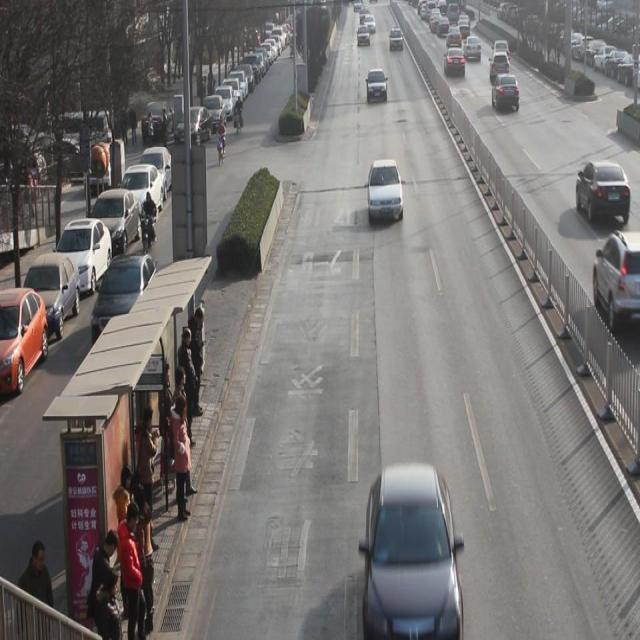car: (365, 464, 461, 640), (92, 255, 159, 352), (593, 232, 634, 329), (576, 162, 631, 226), (368, 160, 404, 225), (492, 73, 520, 114), (367, 68, 387, 106), (444, 47, 466, 81), (464, 35, 482, 65), (489, 54, 510, 79), (389, 26, 404, 55), (446, 24, 461, 46), (357, 24, 370, 46), (363, 13, 375, 34), (492, 40, 508, 54)
